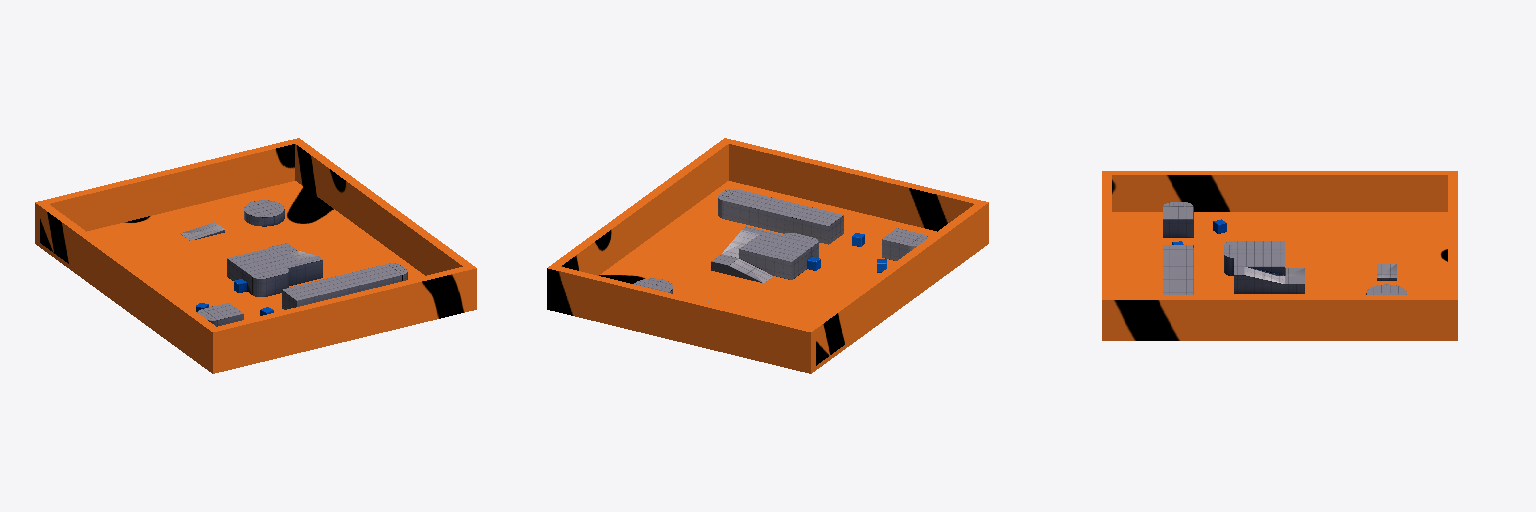
3 renders of one model, left to right at view 1: azimuth 30°, elevation 25°; view 2: azimuth 150°, elevation 25°; view 3: azimuth 270°, elevation 25°, orthographic.
Visible parts, largest first — view 1: SM_MERGED_StaticMeshActor_1.003; view 2: SM_MERGED_StaticMeshActor_1.003; view 3: SM_MERGED_StaticMeshActor_1.003.
Boxes of the visible parts, box(x1,y1,x2,y2) form: SM_MERGED_StaticMeshActor_1.003: box(35, 138, 476, 373); SM_MERGED_StaticMeshActor_1.003: box(547, 138, 988, 373); SM_MERGED_StaticMeshActor_1.003: box(1102, 171, 1457, 340).
Size of the model in its own units: 30 by 4.5 by 35.
Materials: 3 (3 with a texture image).